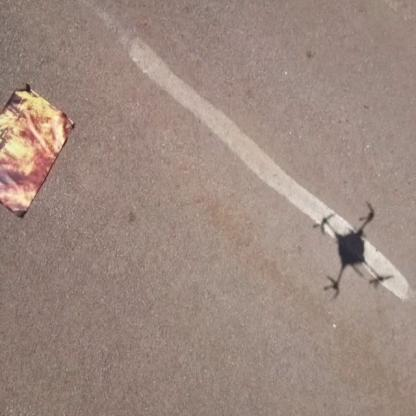fire-poster: (0, 82, 76, 219)
